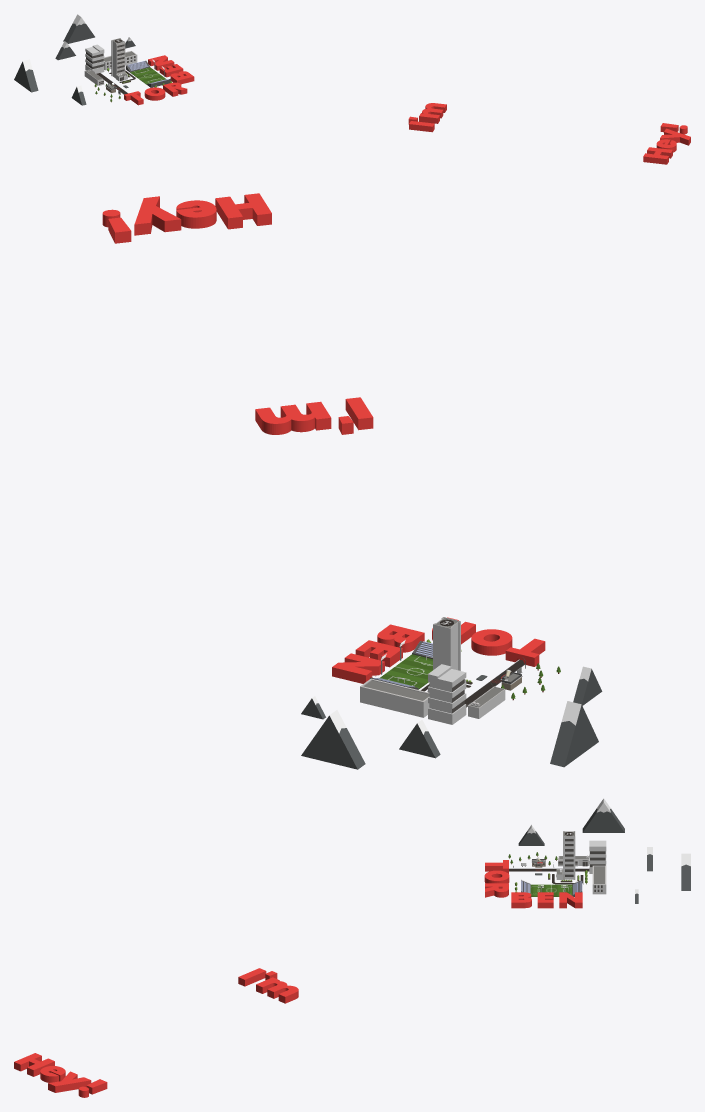
File: city_merged_old.glb
The picture shows the model from 3 angles, top to bottom: view 1: azimuth 30°, elevation 25°; view 2: azimuth 150°, elevation 25°; view 3: azimuth 270°, elevation 25°; orthographic projection. The views are drawn at different scales.
Visible parts, largest first — view 1: mountains, hey, back_building_3, im, tor, ben, skyscraper, soccer_pitch; view 2: mountains, back_building_3, hey, im, ben, tor, skyscraper, soccer_pitch; view 3: hey, mountains, back_building_3, im, ben, tor, skyscraper.
Boxes of the visible parts, x1,y1,x2,y2 form: mountains: (14, 14, 135, 105); hey: (643, 123, 690, 164); back_building_3: (84, 44, 137, 85); im: (408, 103, 446, 132); tor: (124, 82, 187, 105); ben: (148, 55, 194, 84); skyscraper: (109, 38, 135, 82); soccer_pitch: (126, 67, 168, 87); mountains: (301, 666, 602, 769); back_building_3: (360, 664, 505, 724); hey: (102, 193, 271, 243); im: (255, 397, 373, 434); ben: (332, 624, 424, 683); tor: (432, 617, 545, 666); skyscraper: (421, 617, 470, 691); soccer_pitch: (379, 654, 432, 689); hey: (14, 1053, 107, 1097); mountains: (518, 798, 690, 903); back_building_3: (558, 840, 606, 894); im: (238, 968, 298, 1003); ben: (511, 892, 582, 908); tor: (484, 860, 509, 897); skyscraper: (552, 831, 583, 884).
Bounding box in the file's own units: 71.63 × 5.42 × 76.17.
Materials: 29 (4 with a texture image).
